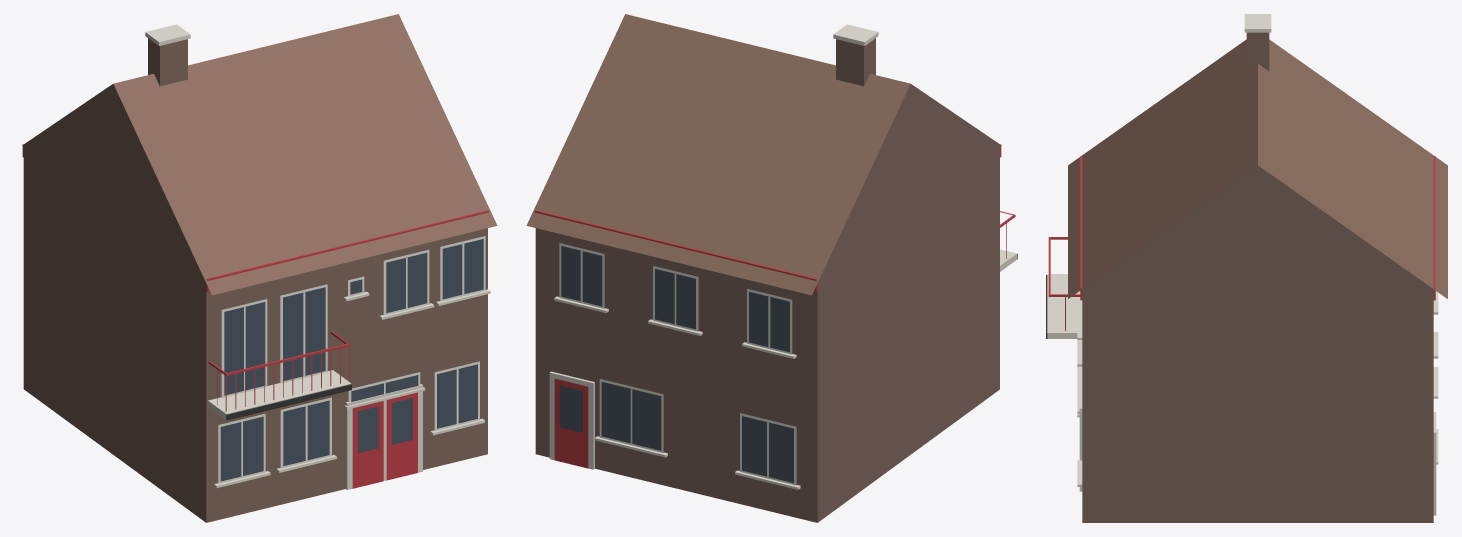
File: oo-ta-side__red__2__gable__long__solid.glb
The picture shows the model from 3 angles, left to right: view 1: azimuth 30°, elevation 25°; view 2: azimuth 150°, elevation 25°; view 3: azimuth 270°, elevation 25°; orthographic projection. The views are drawn at different scales.
Visible parts, largest first — view 1: oo-ta-side__red__2__gable__long__solid; view 2: oo-ta-side__red__2__gable__long__solid; view 3: oo-ta-side__red__2__gable__long__solid.
Boxes of the visible parts, bbox=[...] form: oo-ta-side__red__2__gable__long__solid: bbox=[22, 14, 497, 522]; oo-ta-side__red__2__gable__long__solid: bbox=[526, 14, 1017, 522]; oo-ta-side__red__2__gable__long__solid: bbox=[1046, 14, 1447, 522].
Size of the model in its own units: 7.67 by 10.52 by 9.72.
